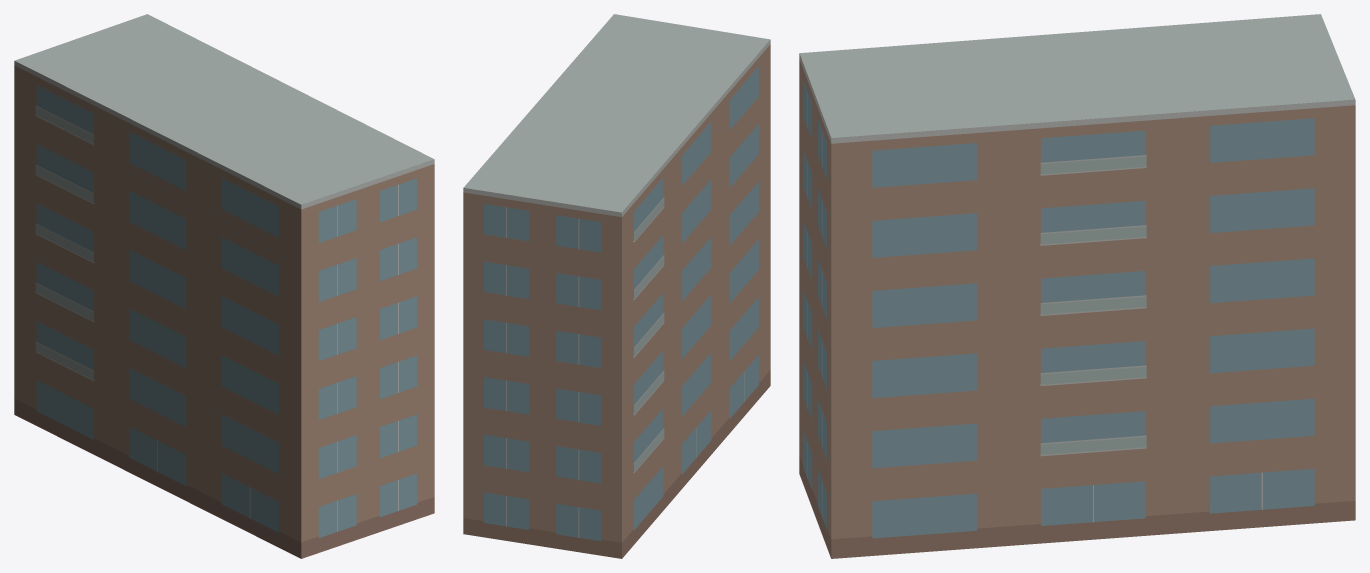
The model's file is survey-upis-32767829.glb.
3 views of the same model, side by side, from view 1: azimuth 30°, elevation 25°; view 2: azimuth 150°, elevation 25°; view 3: azimuth 270°, elevation 25° (orthographic). The views are drawn at different scales.
Visible parts, largest first — view 1: survey-upis-32767829.tmp; view 2: survey-upis-32767829.tmp; view 3: survey-upis-32767829.tmp.
Boxes of the visible parts, left/top/right/bottom form: survey-upis-32767829.tmp: left=14, top=14, right=434, bottom=558; survey-upis-32767829.tmp: left=463, top=14, right=770, bottom=558; survey-upis-32767829.tmp: left=799, top=14, right=1355, bottom=558.
Bounding box in the file's own units: 11.59 × 18.3 × 21.93.
